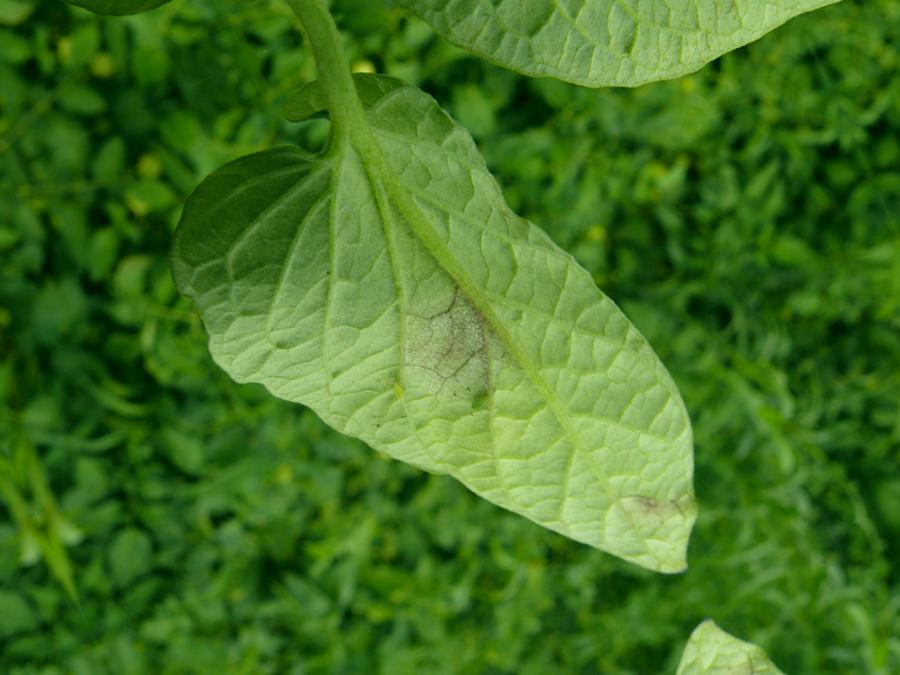Tomato leaf late blight: (94, 0, 764, 675)
